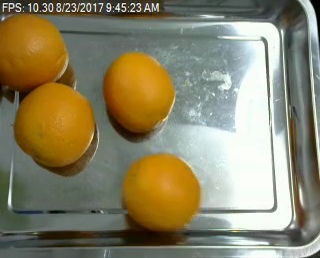Orange: (14, 83, 95, 167), (121, 152, 200, 233), (103, 52, 175, 132), (0, 12, 69, 89)
